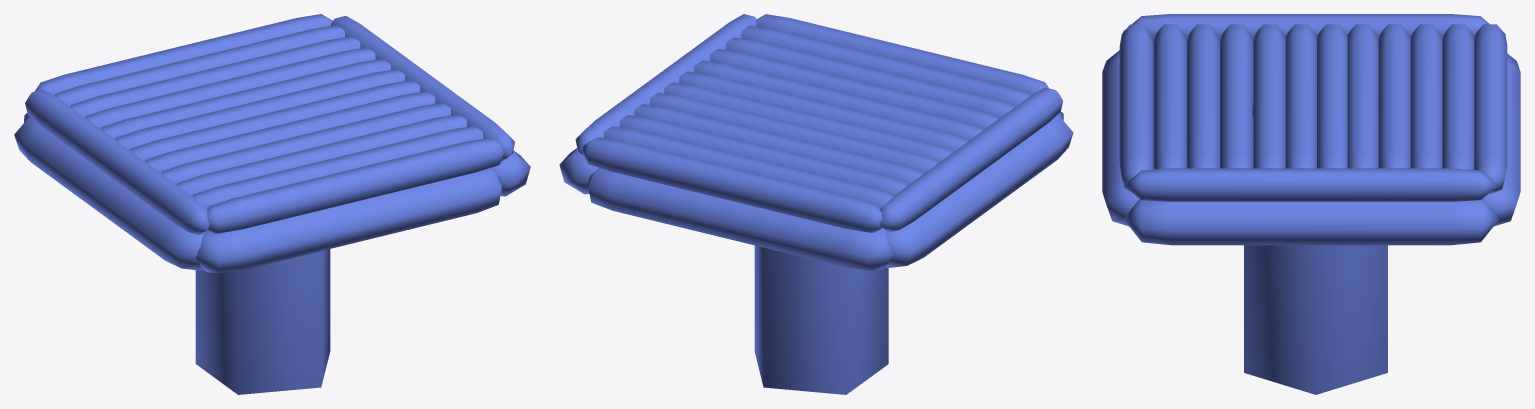
The model's file is HinchableGrandeAzul.fbx.
The picture shows the model from 3 angles, left to right: view 1: azimuth 30°, elevation 25°; view 2: azimuth 150°, elevation 25°; view 3: azimuth 270°, elevation 25°; orthographic projection. The views are drawn at different scales.
Parts seen in each view (by area): view 1: polySurface1540; view 2: polySurface1540; view 3: polySurface1540.
Boxes of the visible parts, x1,y1,x2,y2 form: polySurface1540: (14,14,530,394); polySurface1540: (559,14,1073,394); polySurface1540: (1102,14,1520,394).
Bounding box in the file's own units: 1.44 × 0.9825 × 1.39.
